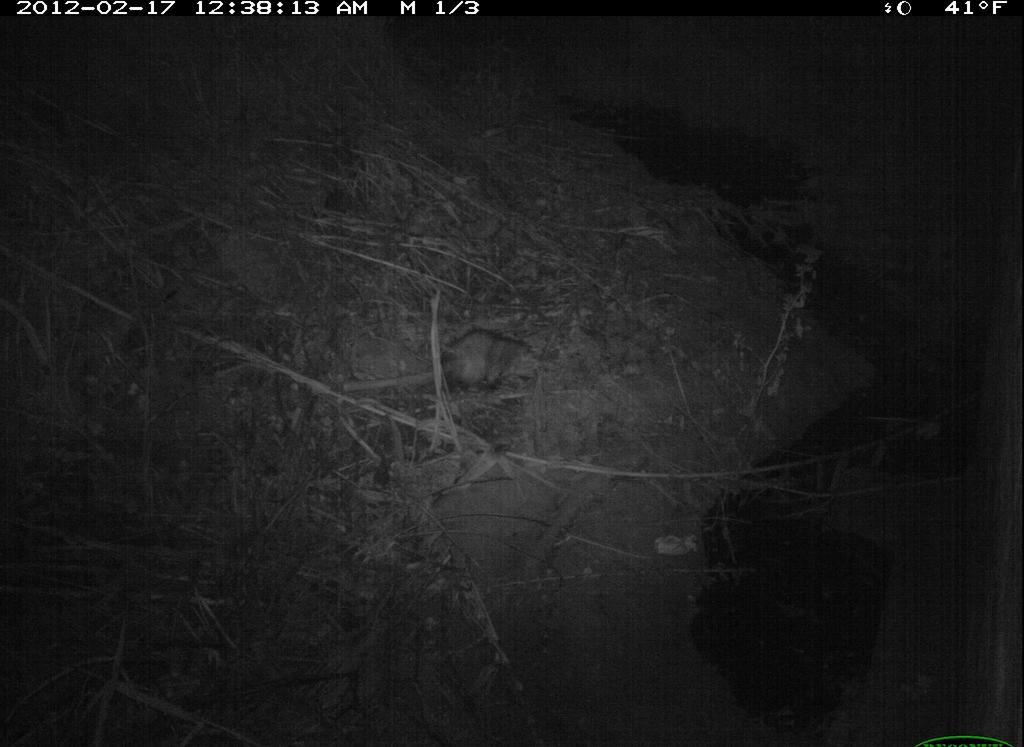opossum: (432, 323, 547, 401)
